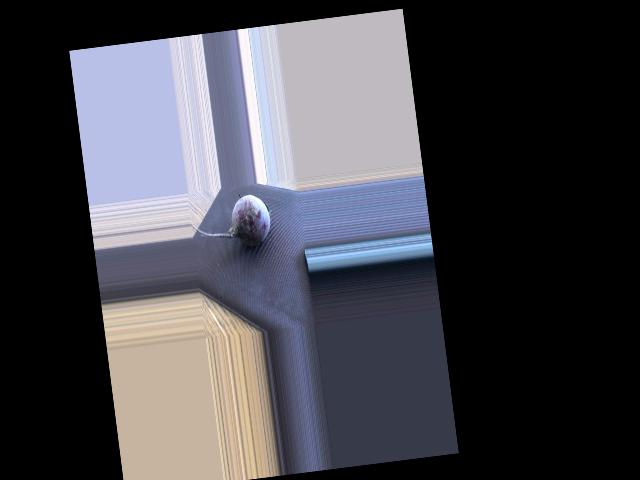beet: (188, 193, 273, 253)
